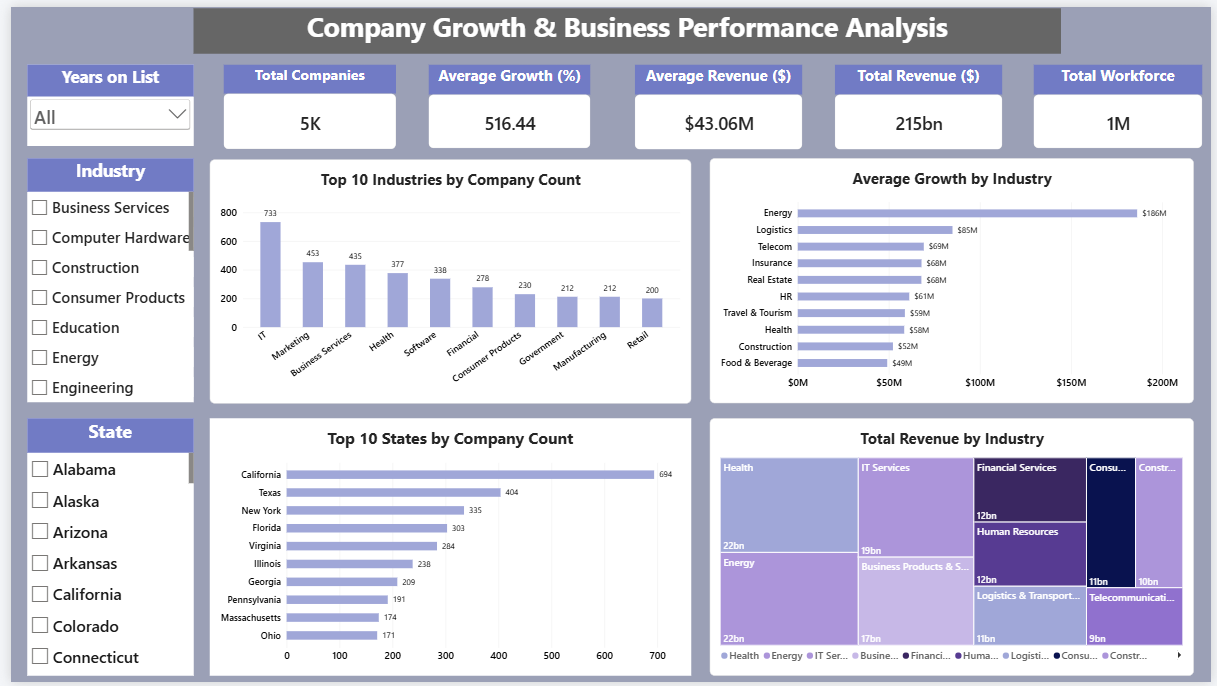

Layout of this report page (visuals, bound fields, positions):
{"tool":"powerbi","page":{"name":"Executive Overview","canvas":[1920,1080],"ordinal":0},"visuals":[{"type":"cardVisual","title":"Total Companies","fields":{"Data":["INC5000_Cleaned_Dataset.Total Companies"]},"box":[340,92,276,136],"z":0},{"type":"cardVisual","title":"Average Growth (%)","fields":{"Data":["INC5000_Cleaned_Dataset.Average Growth"]},"box":[668,92,259.6,134],"z":1000},{"type":"cardVisual","title":"Average Revenue ($)","fields":{"Data":["INC5000_Cleaned_Dataset.Average Revenue"]},"box":[998,92,268.1,136.2],"z":2000},{"type":"cardVisual","title":"Total Revenue ($)","fields":{"Data":["INC5000_Cleaned_Dataset.Total Revenue"]},"box":[1317.5,92.5,268.1,136.2],"z":3000},{"type":"cardVisual","title":"Total Workforce","fields":{"Data":["INC5000_Cleaned_Dataset.Total Workers"]},"box":[1636,92,270,134],"z":4000},{"type":"textbox","title":"Company Growth & Business Performance Analysis","box":[292,2,1388,92],"z":5000},{"type":"columnChart","title":"Top 10 Industries by Company Count","fields":{"Category":["INC5000_Cleaned_Dataset.industry - sort"],"Y":["CountNonNull(INC5000_Cleaned_Dataset.company)"]},"box":[318,244,770,390],"z":6000},{"type":"clusteredBarChart","title":"Top 10 States by Company Count","fields":{"Category":["INC5000_Cleaned_Dataset.state_l"],"Y":["INC5000_Cleaned_Dataset.Total Companies"]},"box":[318,658,770,412],"z":7000},{"type":"slicer","title":"Industry","fields":{"Values":["INC5000_Cleaned_Dataset.industry - sort"]},"box":[26,242,266,390],"z":8000},{"type":"slicer","title":"State","fields":{"Values":["INC5000_Cleaned_Dataset.state_l"]},"box":[26,658,266,412],"z":9000},{"type":"slicer","title":"Years on List","fields":{"Values":["INC5000_Cleaned_Dataset.yrs_on_list"]},"box":[26,92,266,130],"z":10000},{"type":"treemap","title":"Total Revenue by Industry","fields":{"Group":["INC5000_Cleaned_Dataset.industry"],"Values":["INC5000_Cleaned_Dataset.Total Revenue"]},"box":[1118,658,774,412],"z":11000},{"type":"clusteredBarChart","title":"Average Growth by Industry","fields":{"Category":["INC5000_Cleaned_Dataset.industry - sort"],"Y":["INC5000_Cleaned_Dataset.Average Revenue"]},"box":[1118,242,774,392],"z":12000}]}

Visuals, with their boxes in screenshot pixels (x1, y1, x2, y2), scaled from the page's 1920x1080 canvas onto the 1217x686 screenshot:
"Total Companies" cardVisual: region(216, 58, 390, 145)
"Average Growth (%)" cardVisual: region(423, 58, 588, 144)
"Average Revenue ($)" cardVisual: region(633, 58, 803, 145)
"Total Revenue ($)" cardVisual: region(835, 59, 1005, 145)
"Total Workforce" cardVisual: region(1037, 58, 1208, 144)
"Company Growth & Business Performance Analysis" textbox: region(185, 1, 1065, 60)
"Top 10 Industries by Company Count" columnChart: region(202, 155, 690, 403)
"Top 10 States by Company Count" clusteredBarChart: region(202, 418, 690, 680)
"Industry" slicer: region(16, 154, 185, 401)
"State" slicer: region(16, 418, 185, 680)
"Years on List" slicer: region(16, 58, 185, 141)
"Total Revenue by Industry" treemap: region(709, 418, 1199, 680)
"Average Growth by Industry" clusteredBarChart: region(709, 154, 1199, 403)
